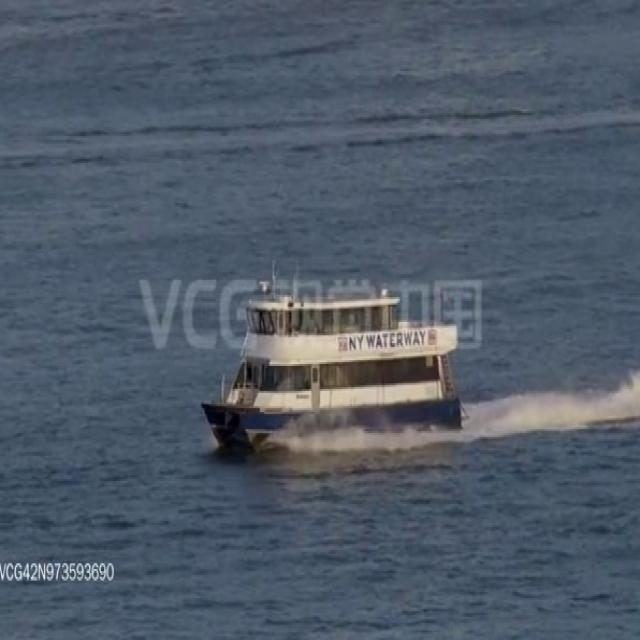houseboat: (204, 277, 470, 443)
